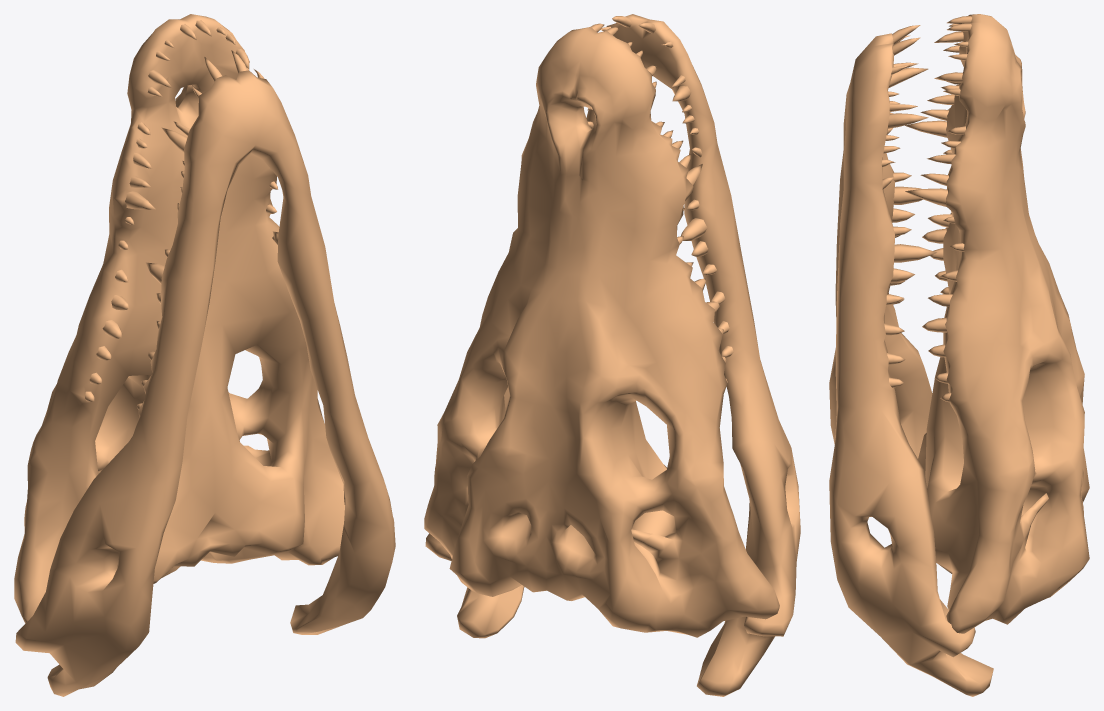
The model's file is Bone_004.FBX.
The picture shows the model from 3 angles, left to right: view 1: azimuth 30°, elevation 25°; view 2: azimuth 150°, elevation 25°; view 3: azimuth 270°, elevation 25°; orthographic projection. The views are drawn at different scales.
Parts seen in each view (by area): view 1: Bone_004_LOD0; view 2: Bone_004_LOD0; view 3: Bone_004_LOD0.
Part boxes in pixels (left/top/right/bottom): Bone_004_LOD0: left=14, top=14, right=395, bottom=696; Bone_004_LOD0: left=424, top=14, right=800, bottom=696; Bone_004_LOD0: left=829, top=14, right=1089, bottom=696.
Size of the model in its own units: 192 by 124 by 326.
